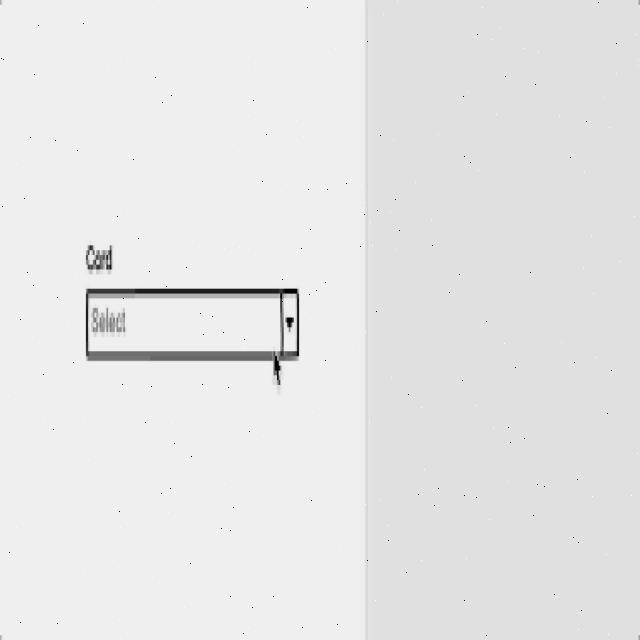dropdownMenu: (86, 288, 300, 356)
label: (76, 233, 122, 280)
